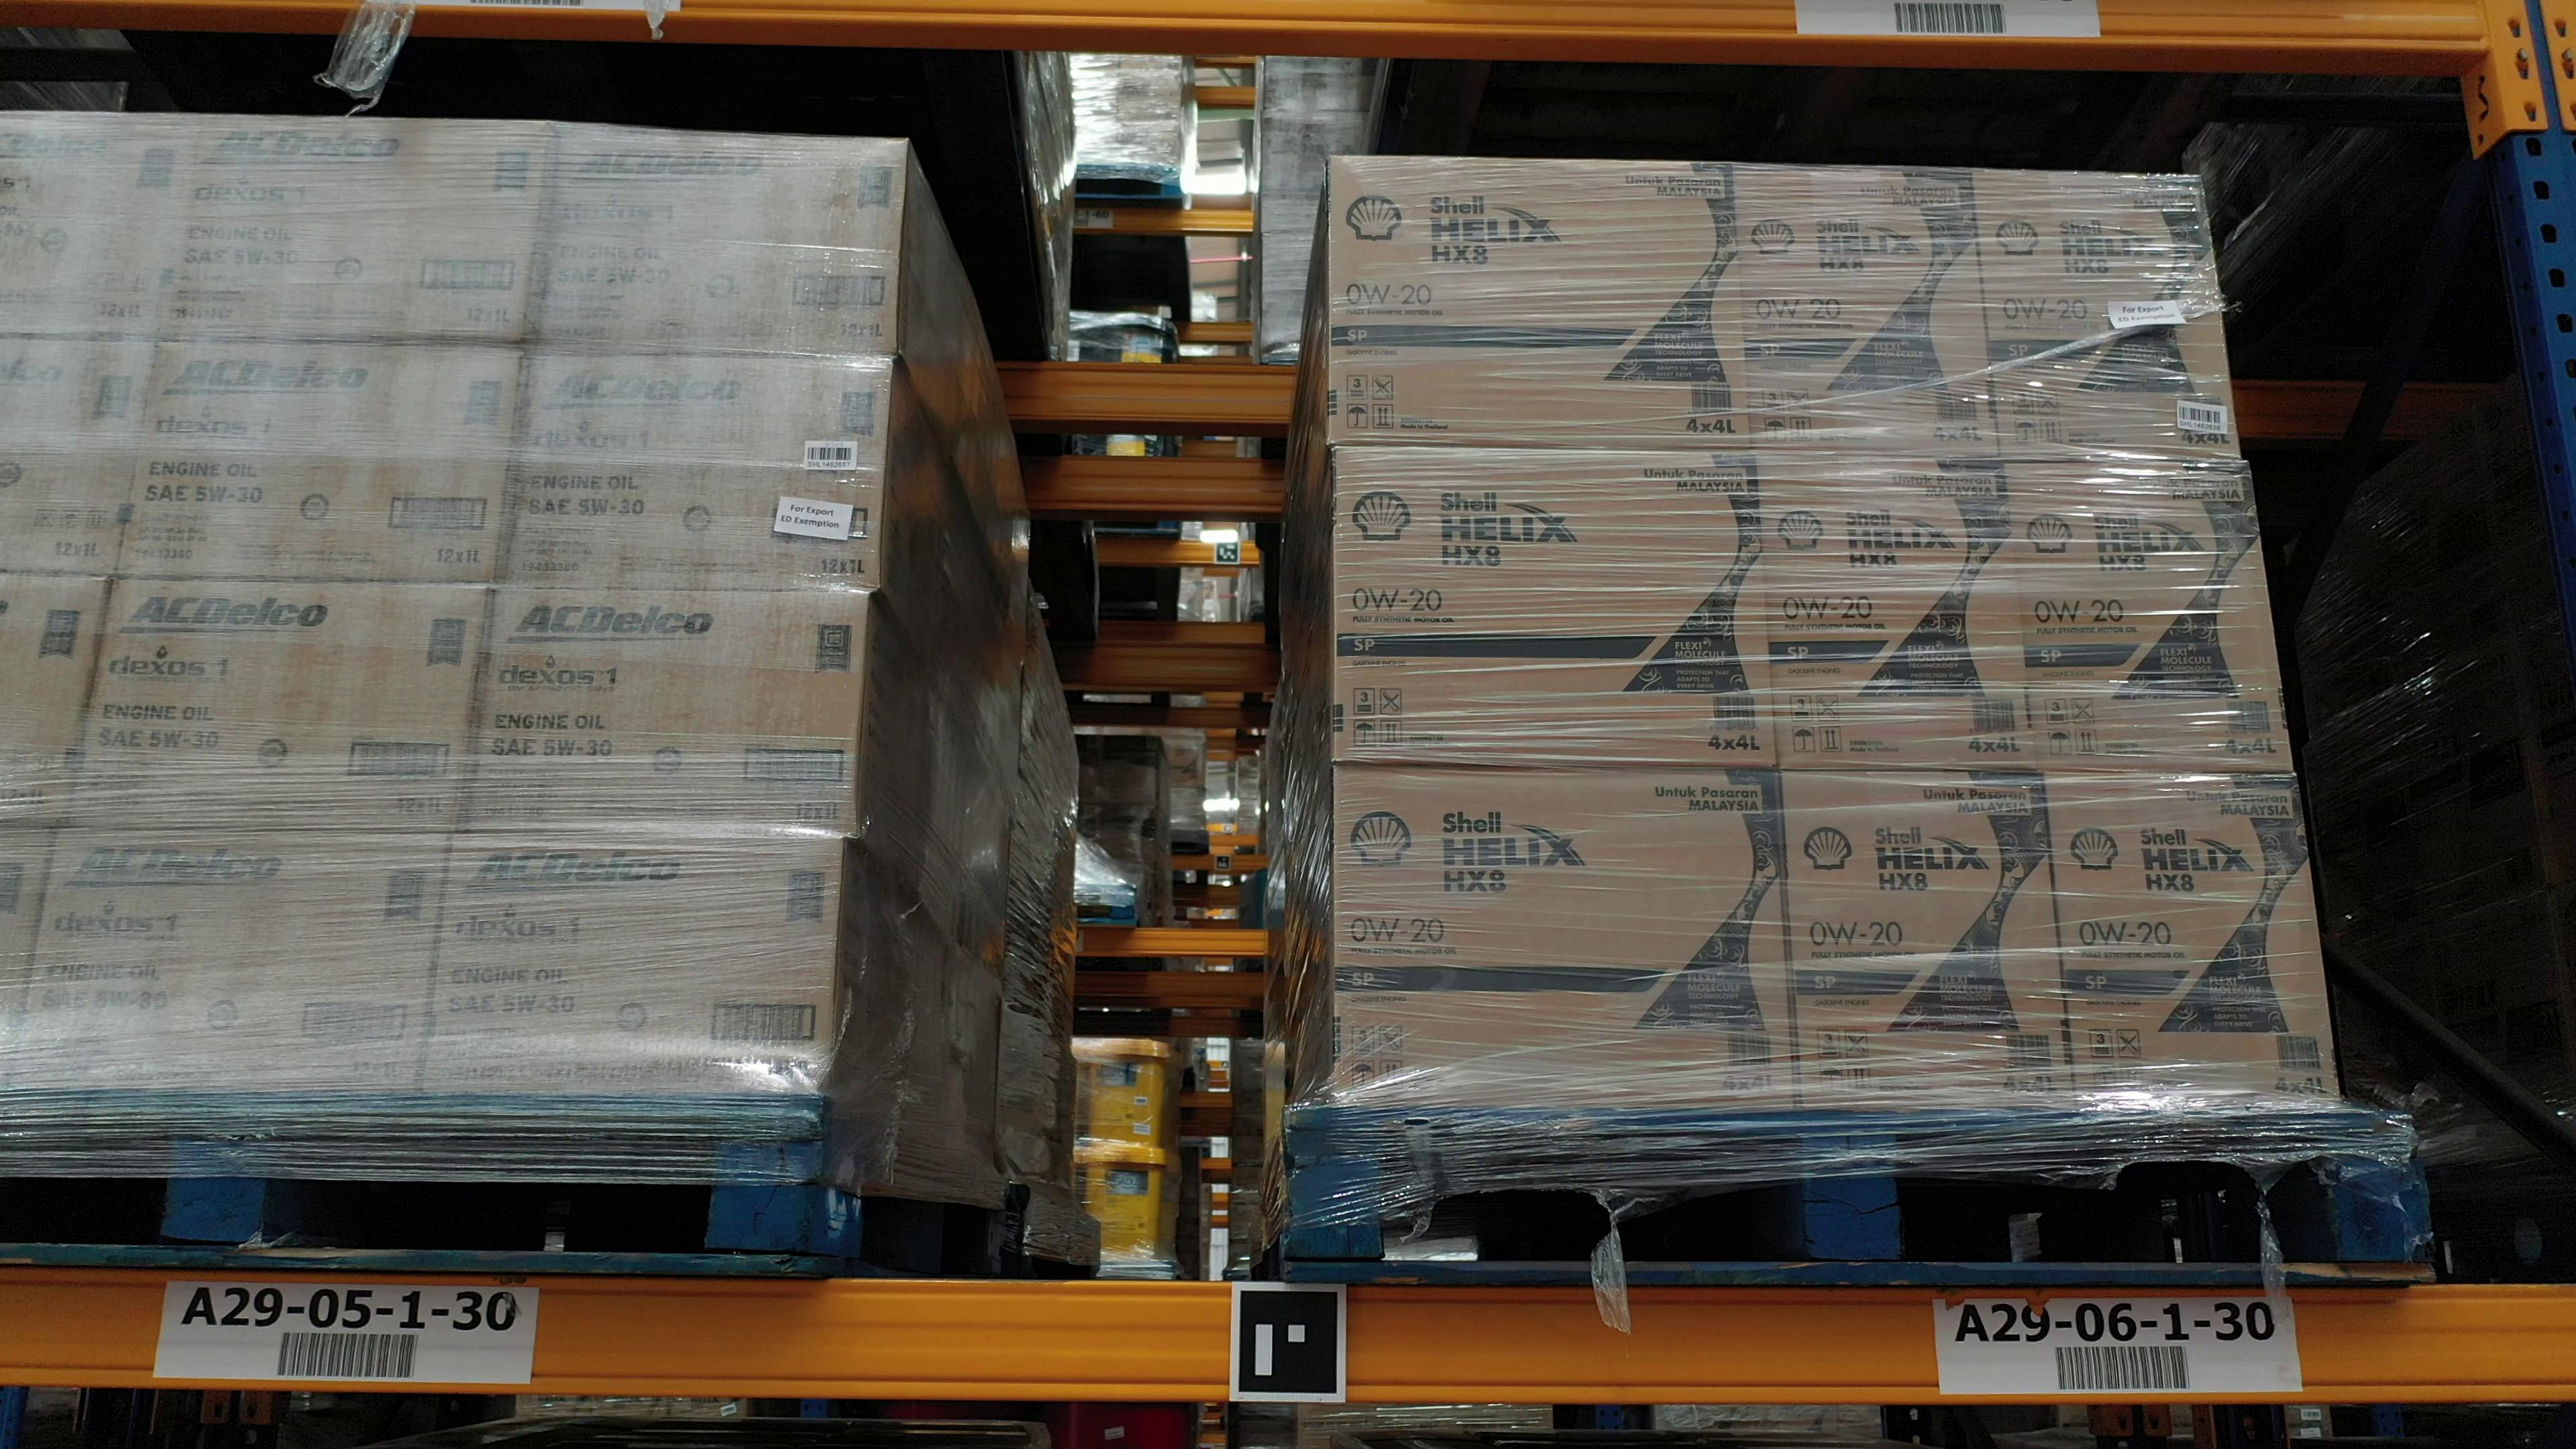-: (7, 824, 451, 1095), (421, 833, 846, 1099), (65, 573, 488, 832), (464, 586, 874, 837), (119, 340, 524, 584), (501, 354, 897, 591), (163, 113, 554, 340), (534, 120, 908, 356), (0, 340, 159, 570), (0, 570, 111, 821)
